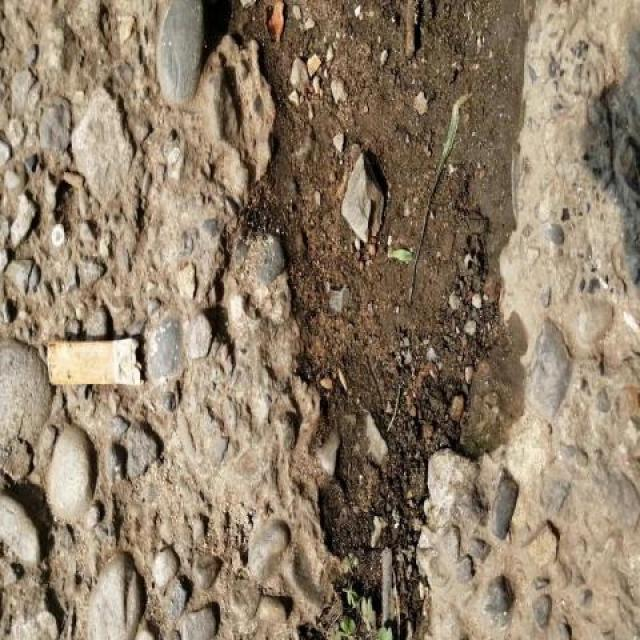non-organic waste: (40, 329, 148, 388)
